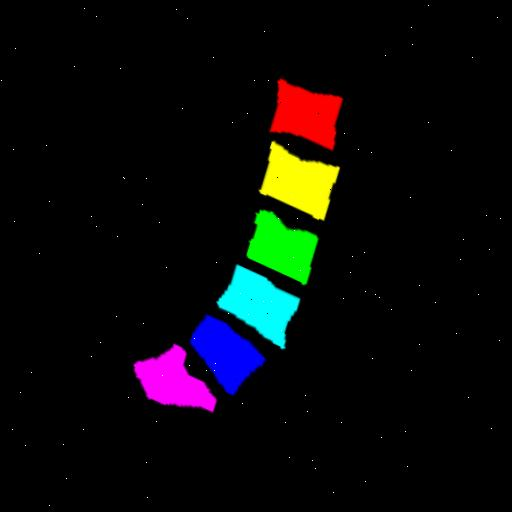L1: (266, 76, 339, 145)
L2: (255, 138, 336, 216)
L3: (242, 207, 310, 279)
L4: (211, 260, 293, 344)
L5: (182, 312, 257, 392)
S1: (125, 343, 207, 407)
